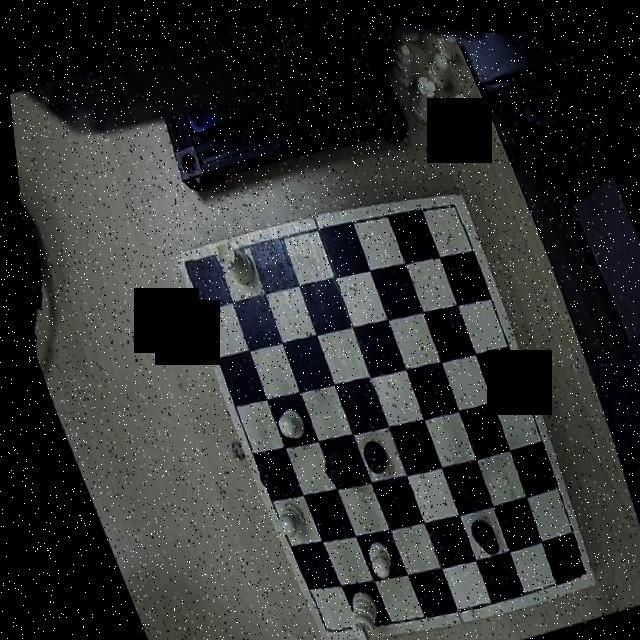chess-table-corners: (426, 186, 468, 227), (170, 247, 210, 284), (548, 545, 586, 581), (300, 606, 334, 640)
